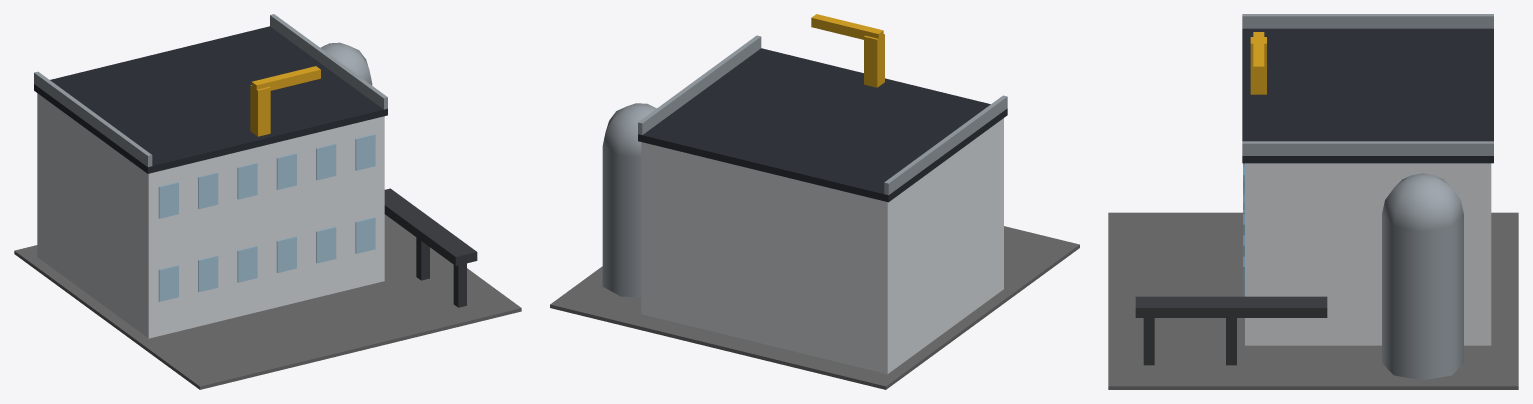
File: bld_special_factory_a08_lod1.glb
The picture shows the model from 3 angles, left to right: view 1: azimuth 30°, elevation 25°; view 2: azimuth 150°, elevation 25°; view 3: azimuth 270°, elevation 25°; orthographic projection. The views are drawn at different scales.
Visible parts, largest first — view 1: body, arm; view 2: body, arm; view 3: body, arm.
Part boxes in pixels (x1=…): body: x1=14, y1=14, x2=521, y2=389; arm: x1=250, y1=66, x2=320, y2=136; body: x1=550, y1=35, x2=1079, y2=389; arm: x1=811, y1=14, x2=884, y2=87; body: x1=1108, y1=14, x2=1518, y2=389; arm: x1=1250, y1=32, x2=1266, y2=94.
Bounding box in the file's own units: 15 × 10.1 × 15.
